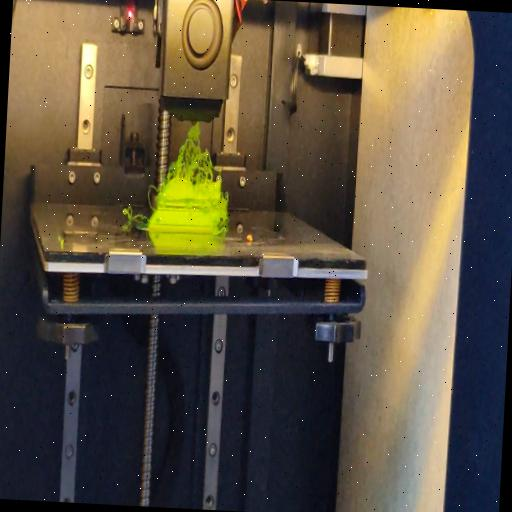spaghetti: (164, 124, 228, 191), (123, 205, 151, 225), (147, 182, 163, 210), (218, 224, 230, 234)
